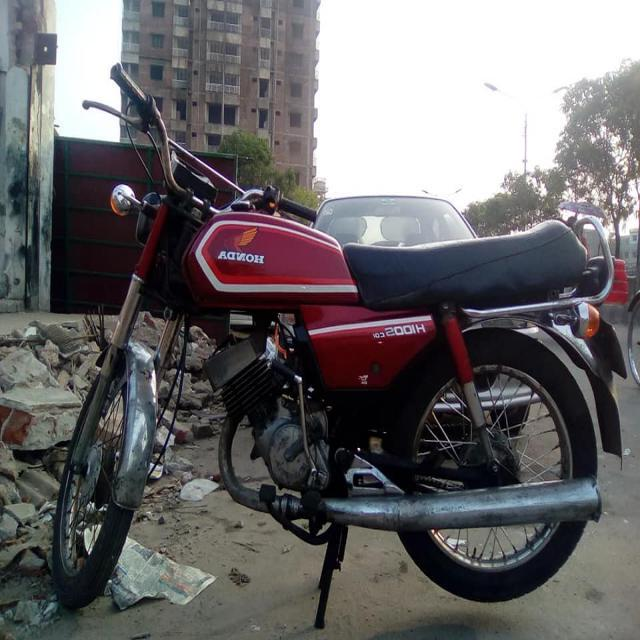Motorbike: (50, 43, 634, 631)
